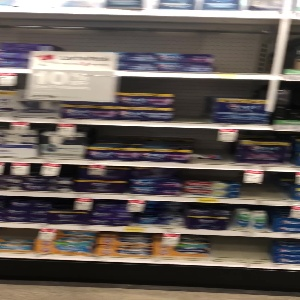void: (215, 21, 267, 75), (175, 78, 211, 127), (190, 130, 235, 166), (238, 171, 292, 201), (210, 237, 275, 259)
